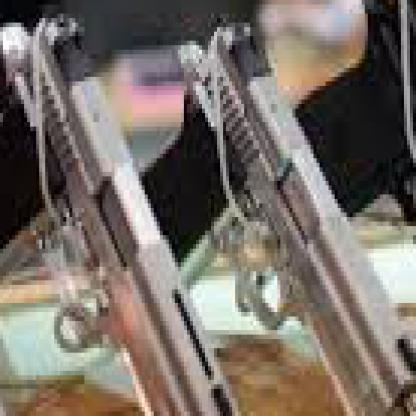gun: (127, 13, 413, 412), (0, 0, 248, 412), (283, 0, 413, 412)
